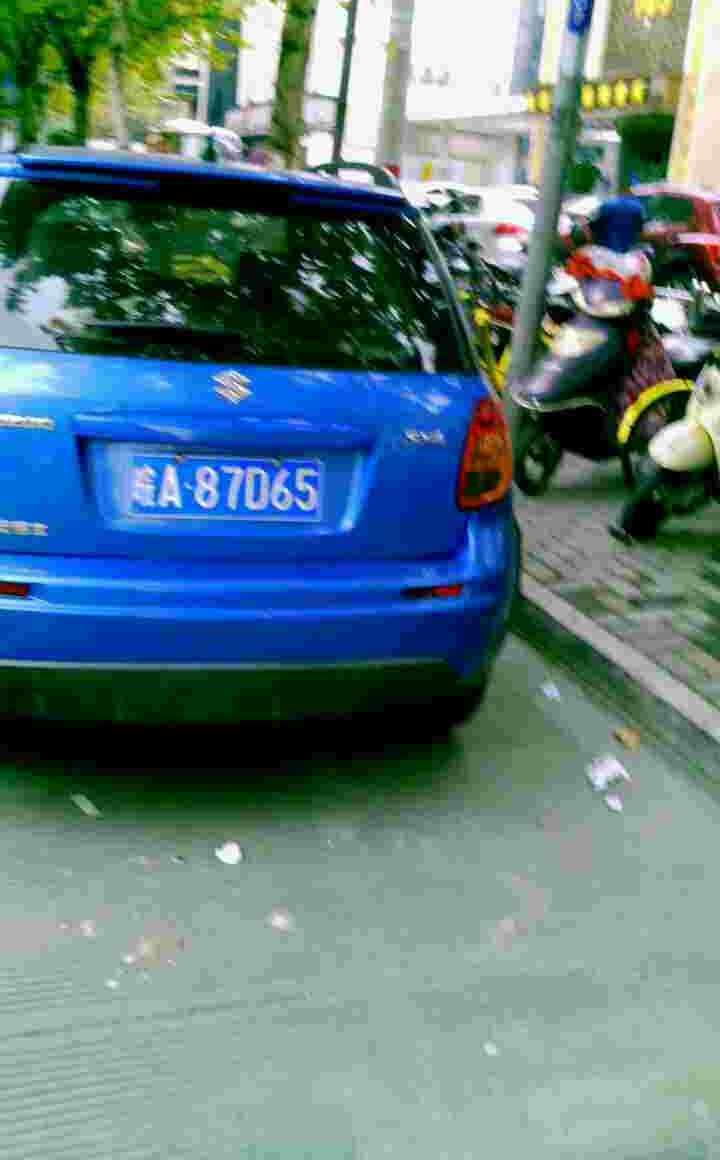license_plate: (91, 451, 347, 525)
